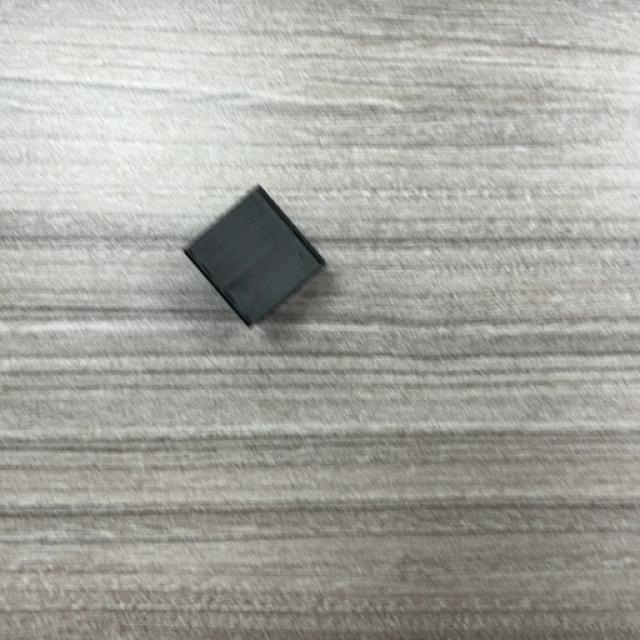Negro: (182, 186, 326, 329)
